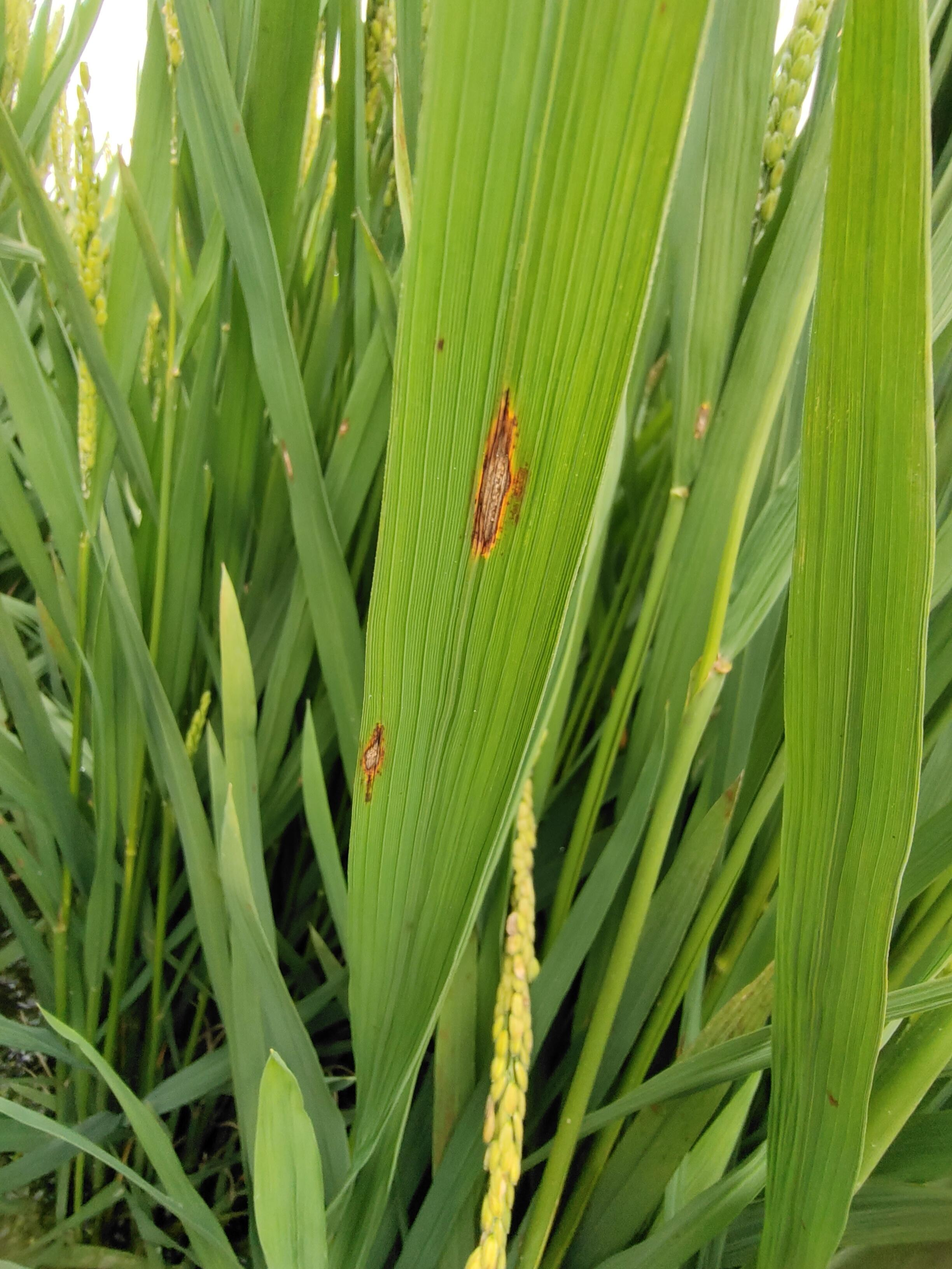LEAF: (332, 0, 712, 1269)
LEAF BLAST: (471, 389, 528, 557), (472, 390, 518, 557), (361, 722, 385, 803)
